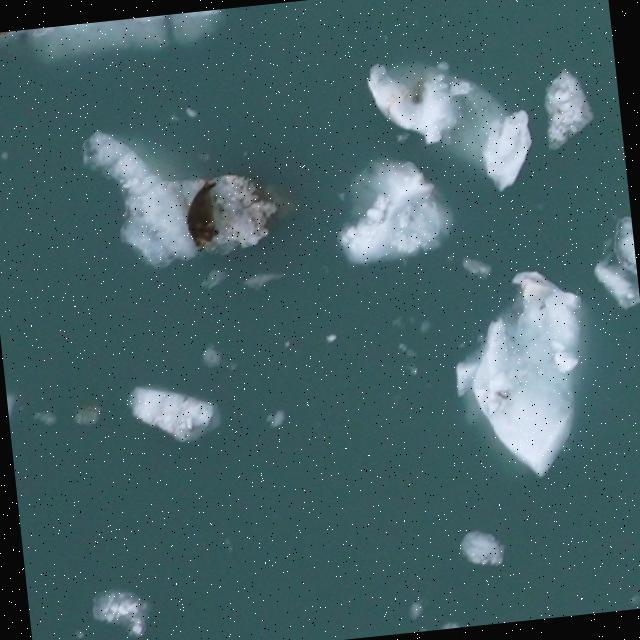seal: (178, 174, 228, 257)
